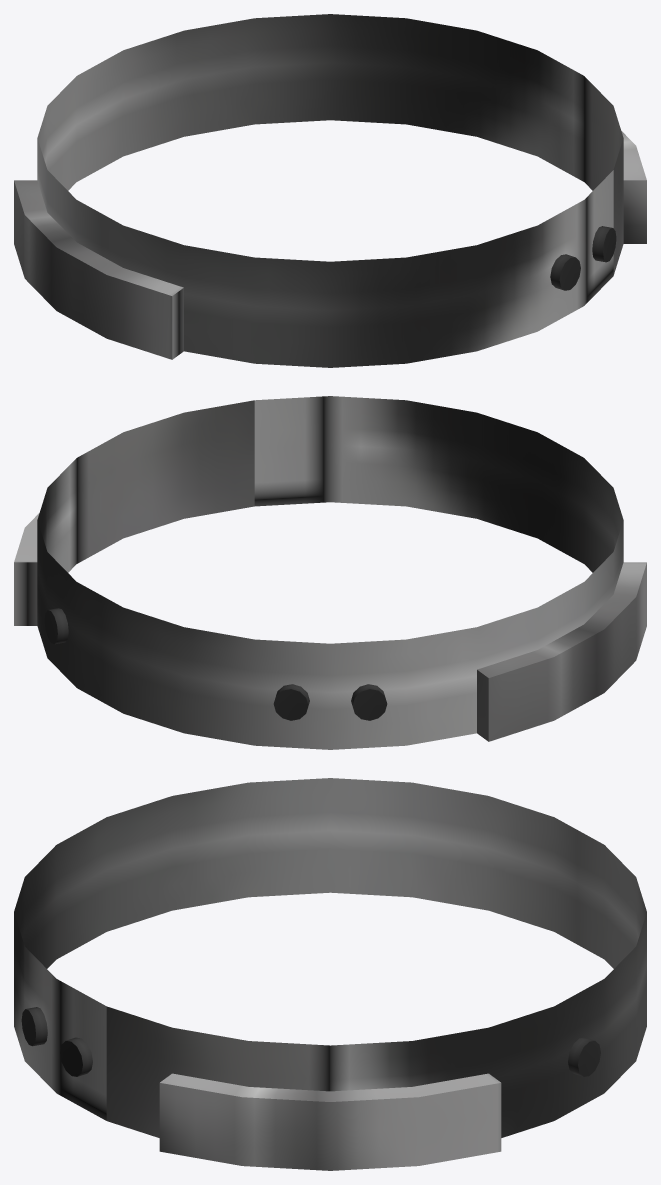
Rendered from 4mv_battery_s0_1.obj.
The picture shows the model from 3 angles, top to bottom: view 1: azimuth 30°, elevation 25°; view 2: azimuth 150°, elevation 25°; view 3: azimuth 270°, elevation 25°; orthographic projection. The views are drawn at different scales.
Parts seen in each view (by area): view 1: mesh1; view 2: mesh1; view 3: mesh1.
Boxes of the visible parts, bbox=[...] form: mesh1: bbox=[14, 14, 646, 367]; mesh1: bbox=[14, 396, 646, 749]; mesh1: bbox=[14, 778, 646, 1170].
Bounding box in the file's own units: 0.675 × 0.125 × 0.625.
